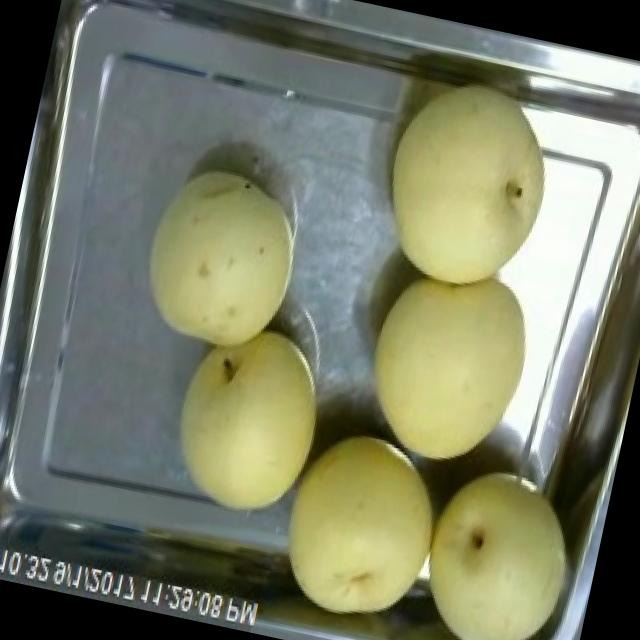Fruit: (356, 66, 574, 314), (338, 244, 556, 490), (256, 411, 461, 640), (150, 303, 348, 535), (120, 149, 320, 370), (396, 444, 609, 640)
